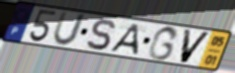5: (27, 9, 59, 44)
A: (107, 22, 141, 57)
G: (147, 25, 181, 62)
S: (85, 18, 117, 52)
U: (50, 10, 88, 48)
V: (179, 28, 213, 65)
